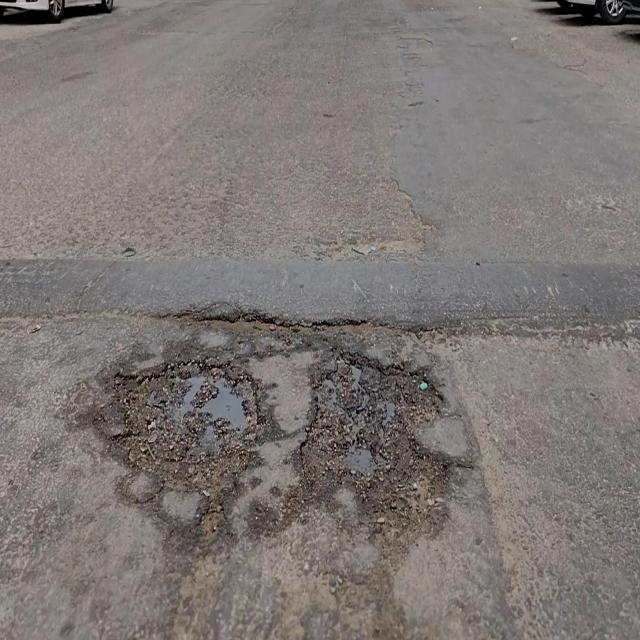Potholes: (294, 340, 451, 500), (108, 350, 262, 504)
